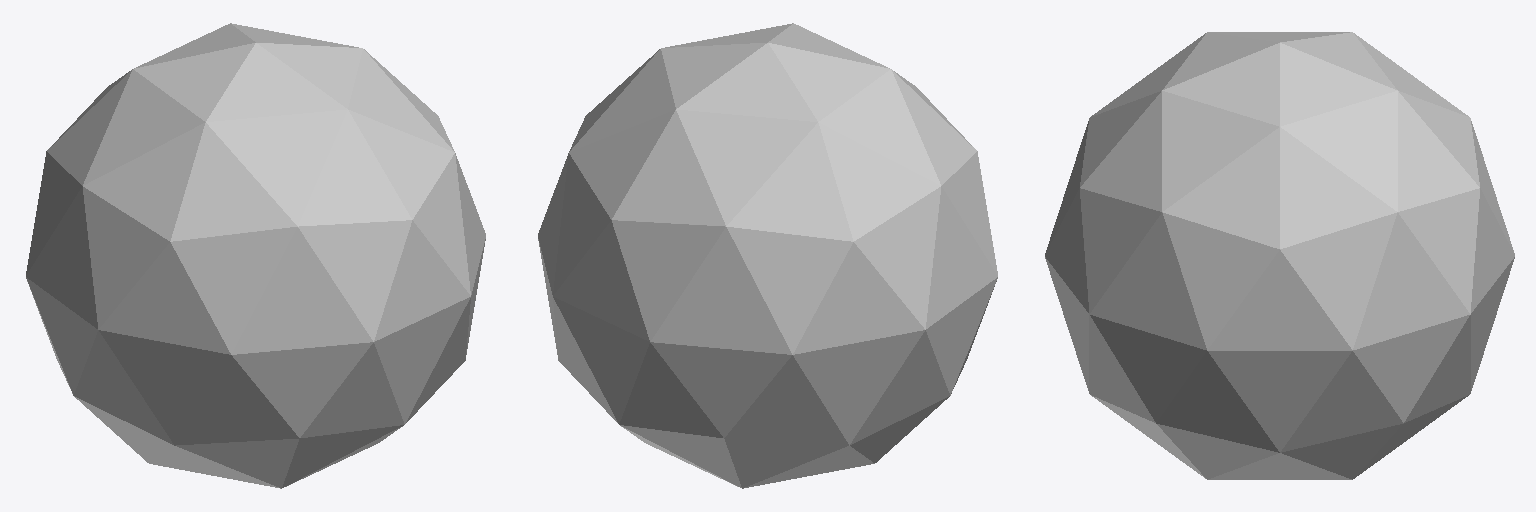
File: geosphere.obj
3 views of the same model, side by side, from view 1: azimuth 30°, elevation 25°; view 2: azimuth 150°, elevation 25°; view 3: azimuth 270°, elevation 25° (orthographic).
Parts seen in each view (by area): view 1: GeoSphere001; view 2: GeoSphere001; view 3: GeoSphere001.
Boxes of the visible parts, <box> form: GeoSphere001: <box>26,23,485,488</box>; GeoSphere001: <box>538,23,997,488</box>; GeoSphere001: <box>1045,32,1514,479</box>.
Size of the model in its own units: 19.02 by 20 by 20.